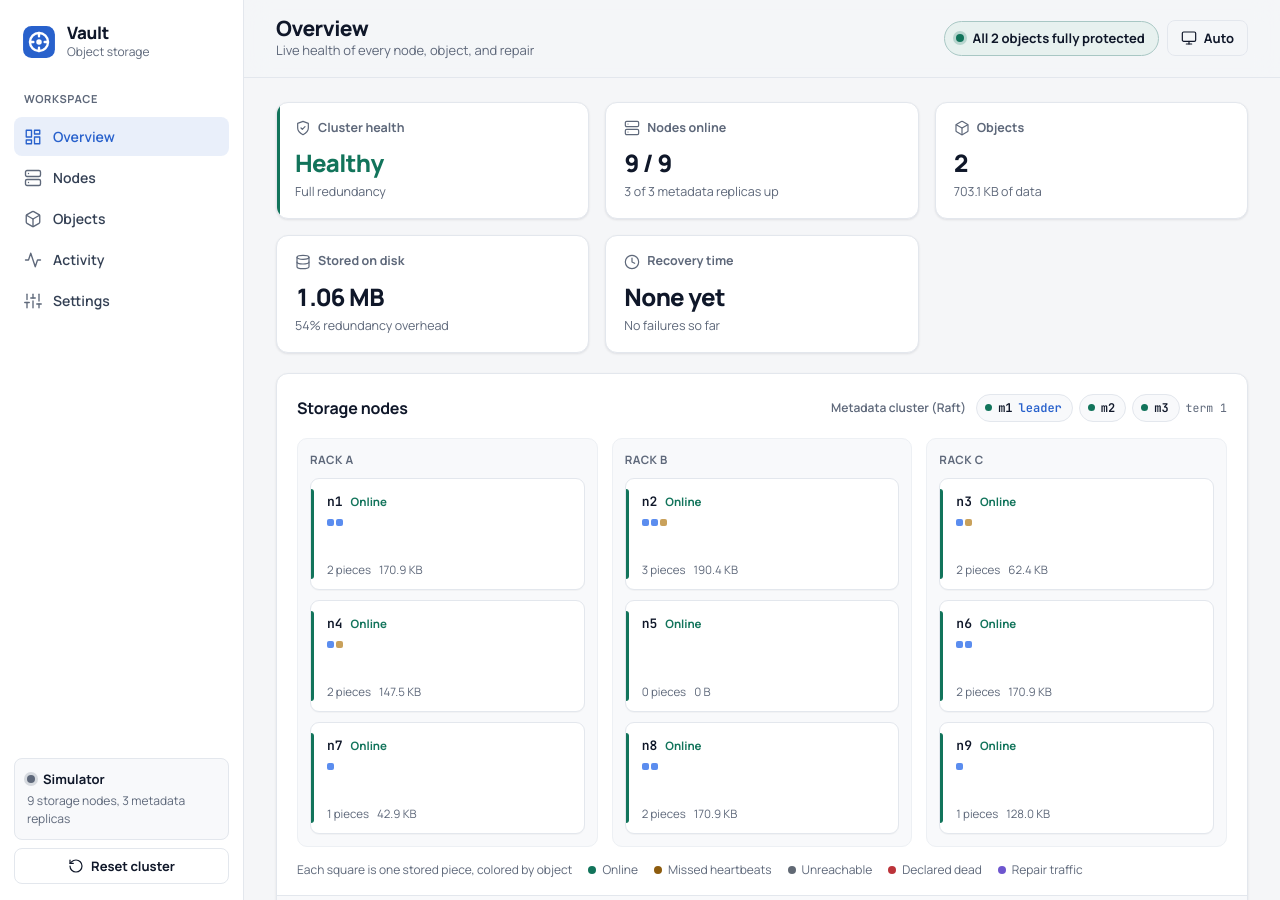
Test: <App /> › "Read and verify" proves the object is bit-for-bit intact
Click the link "Objects".
click(65, 219)  # box [24,209,106,228]
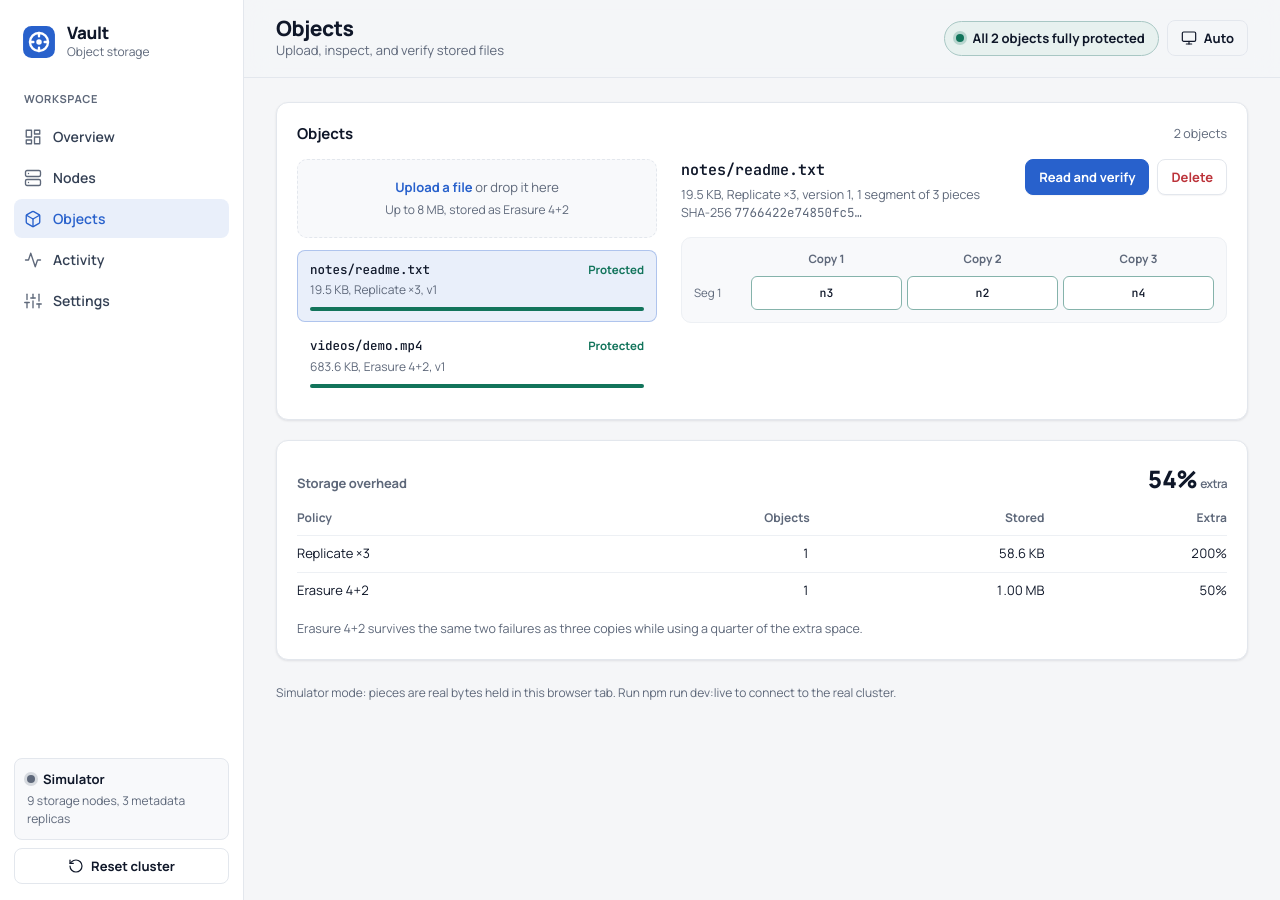
Click the button "notes/readme.txt Protected 19.5 KB, Replicate ×3, v1".
click(370, 269)  # box [297,250,657,322]
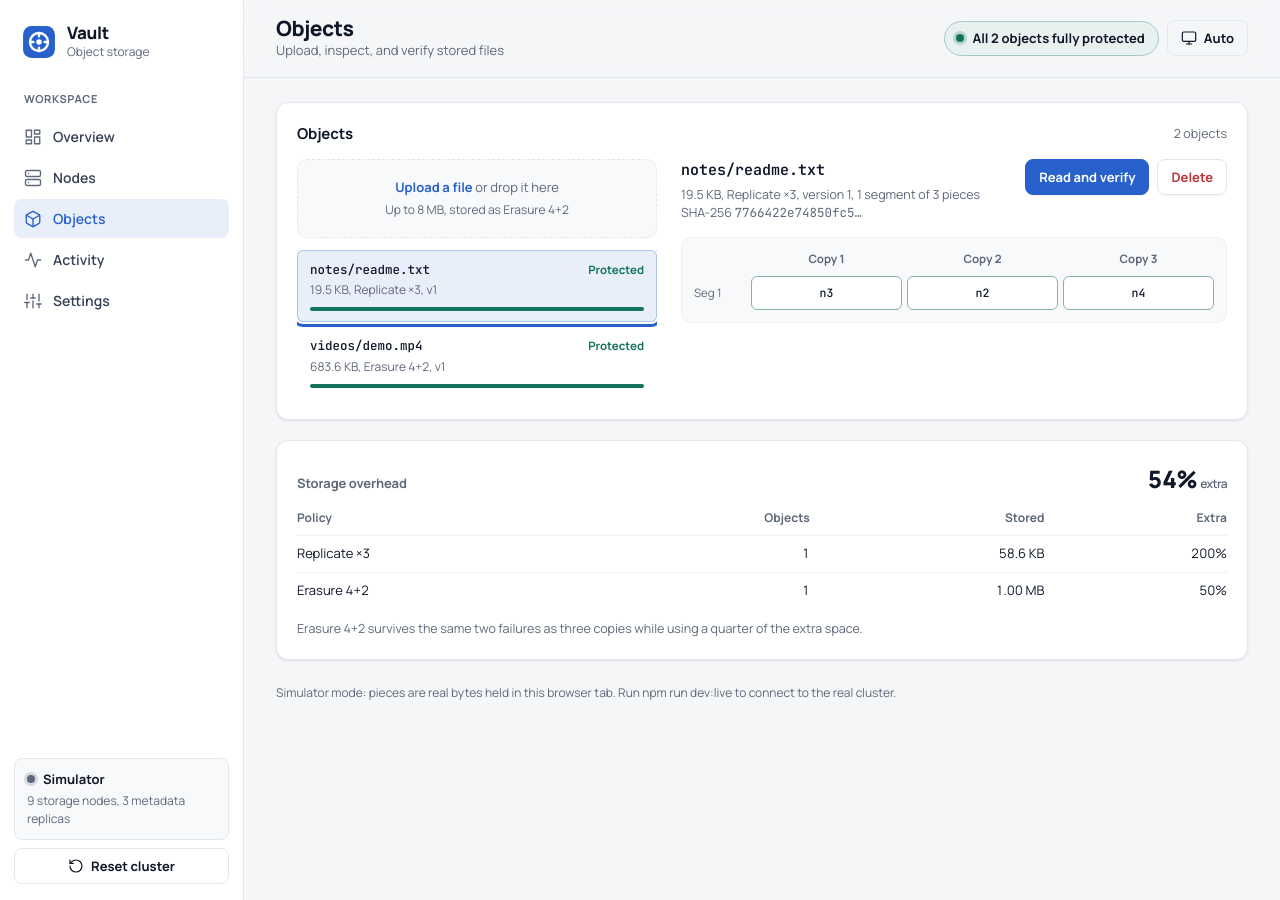
Click the button "Read and verify".
click(1087, 177)  # box [1025,159,1150,195]
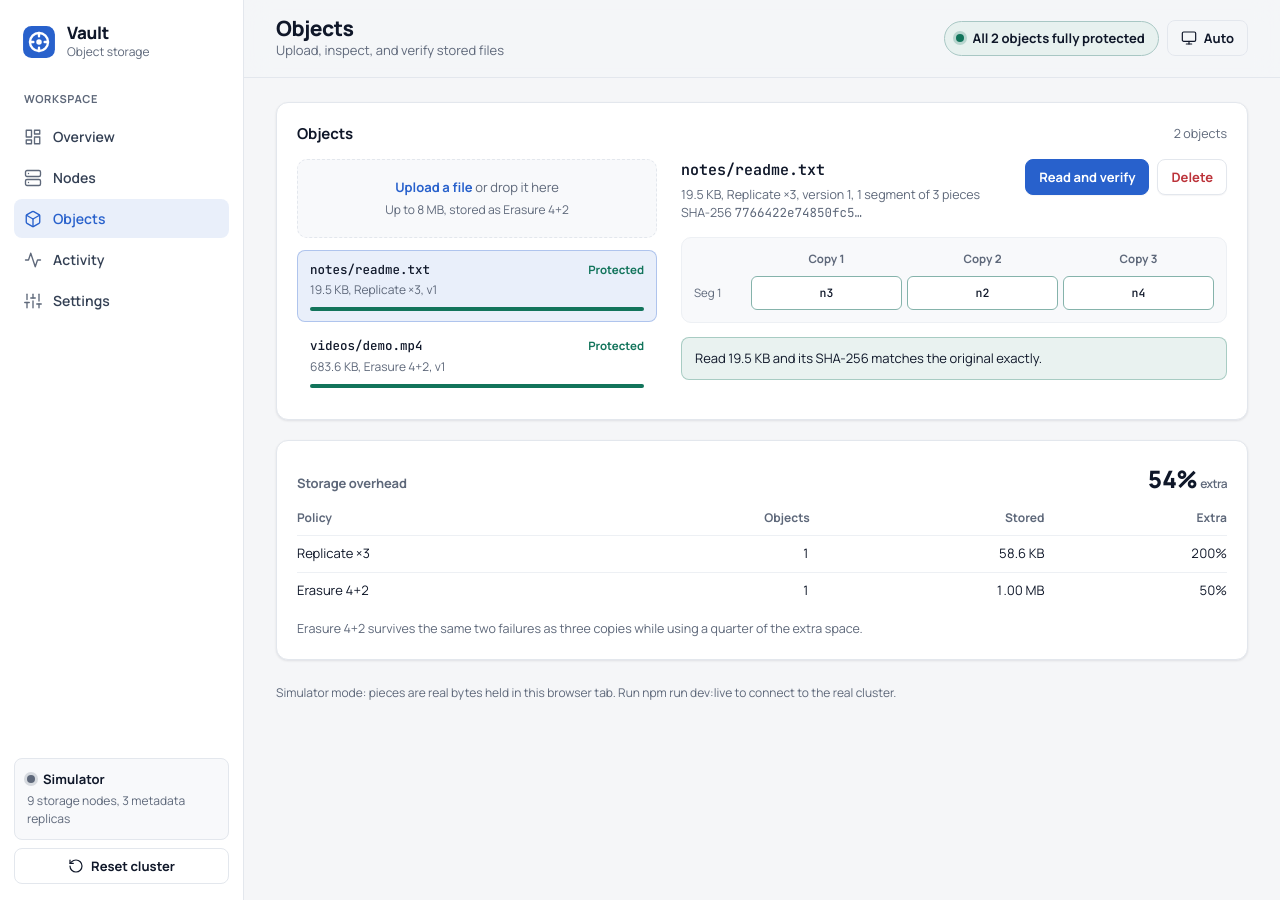
Expected: the text "Read 19.5 KB and its SHA-256 matches the original exactly." is shown, [681,337,1227,380]
